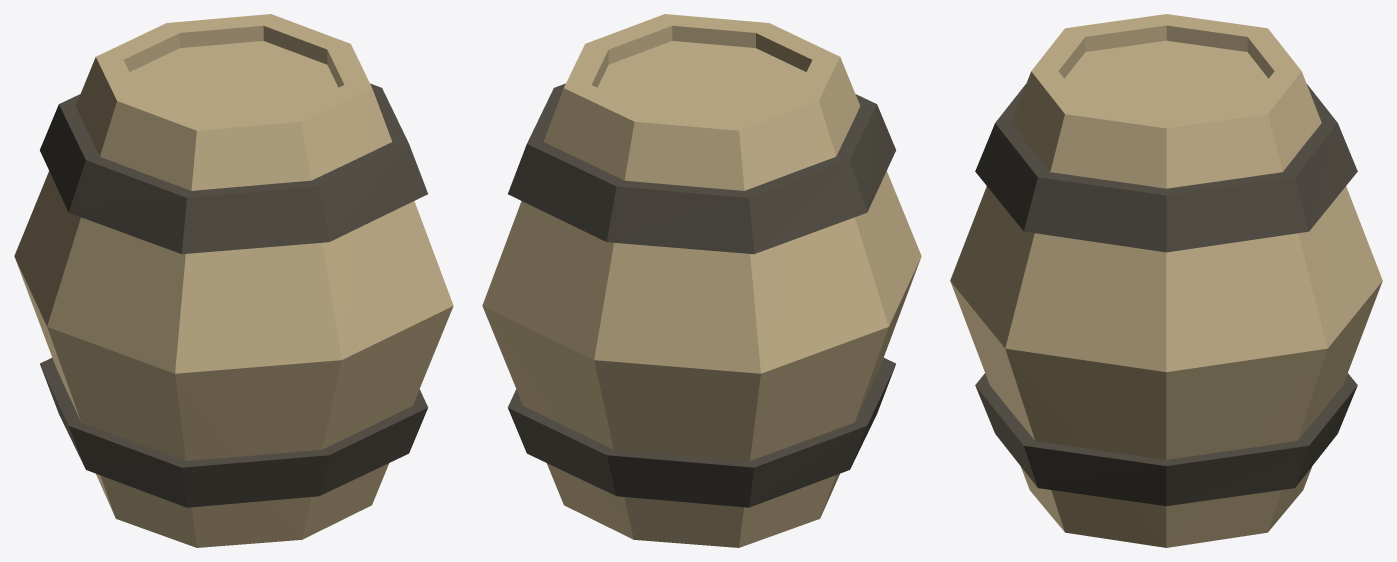
Rendered from Barrel 01.FBX.
3 renders of one model, left to right at view 1: azimuth 30°, elevation 25°; view 2: azimuth 150°, elevation 25°; view 3: azimuth 270°, elevation 25°, orthographic.
Visible parts, largest first — view 1: Barrel 01; view 2: Barrel 01; view 3: Barrel 01.
Part boxes in pixels (x1,y1,x2,y2): Barrel 01: (14, 14, 453, 547); Barrel 01: (482, 14, 921, 547); Barrel 01: (950, 14, 1382, 547).
Bounding box in the file's own units: 67.76 × 67.7 × 72.32.
